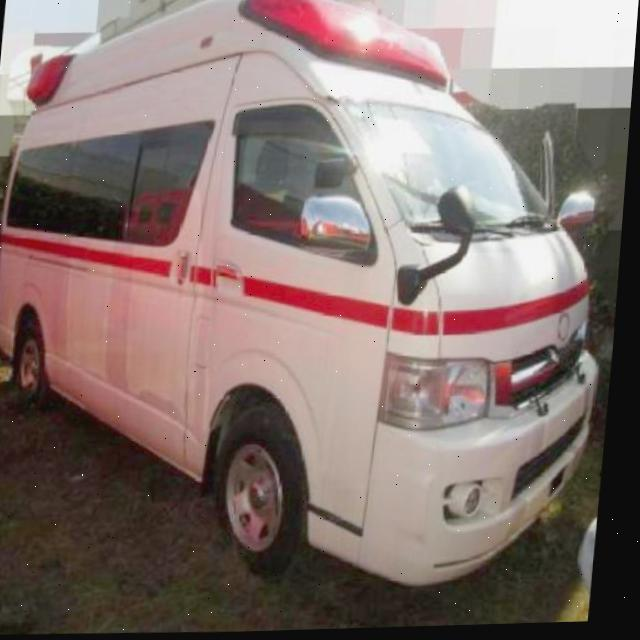emergency: (0, 0, 638, 605)
